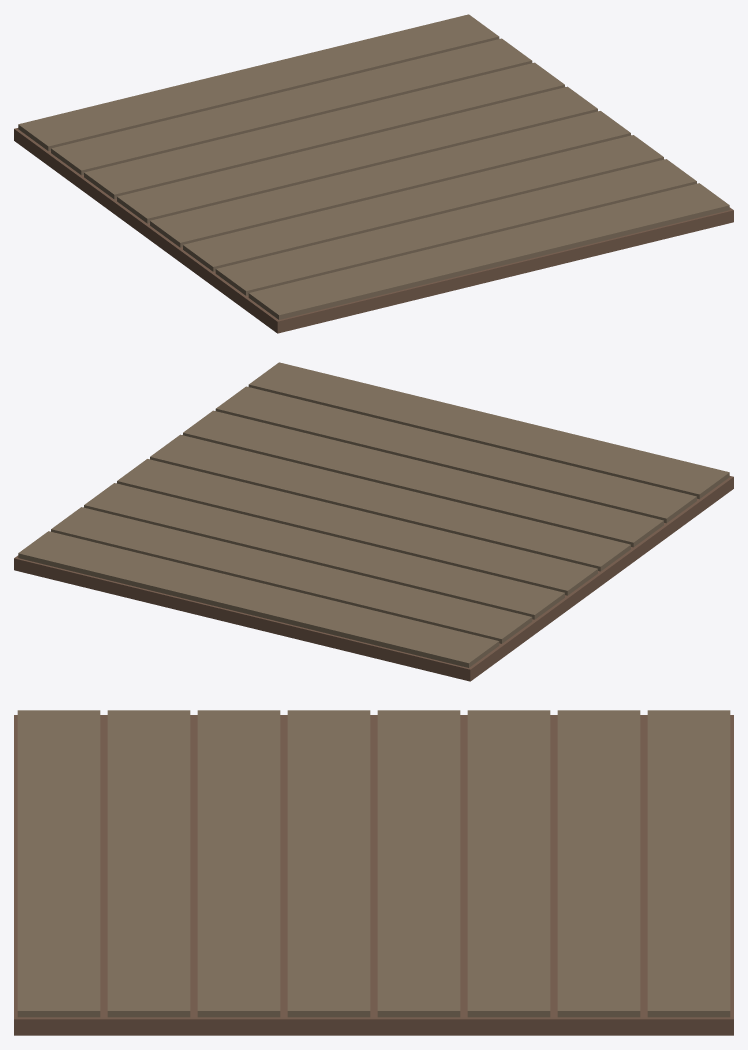
File: haunted_floor_wood.glb
3 views of the same model, one above another, from view 1: azimuth 30°, elevation 25°; view 2: azimuth 150°, elevation 25°; view 3: azimuth 270°, elevation 25° (orthographic). The views are drawn at different scales.
Parts seen in each view (by area): view 1: Haunted_Floor_Wood; view 2: Haunted_Floor_Wood; view 3: Haunted_Floor_Wood.
Part boxes in pixels (bbox=[...]): Haunted_Floor_Wood: bbox=[14, 14, 733, 333]; Haunted_Floor_Wood: bbox=[14, 362, 733, 681]; Haunted_Floor_Wood: bbox=[14, 710, 733, 1035].
Size of the model in its own units: 4 by 0.14 by 4.
